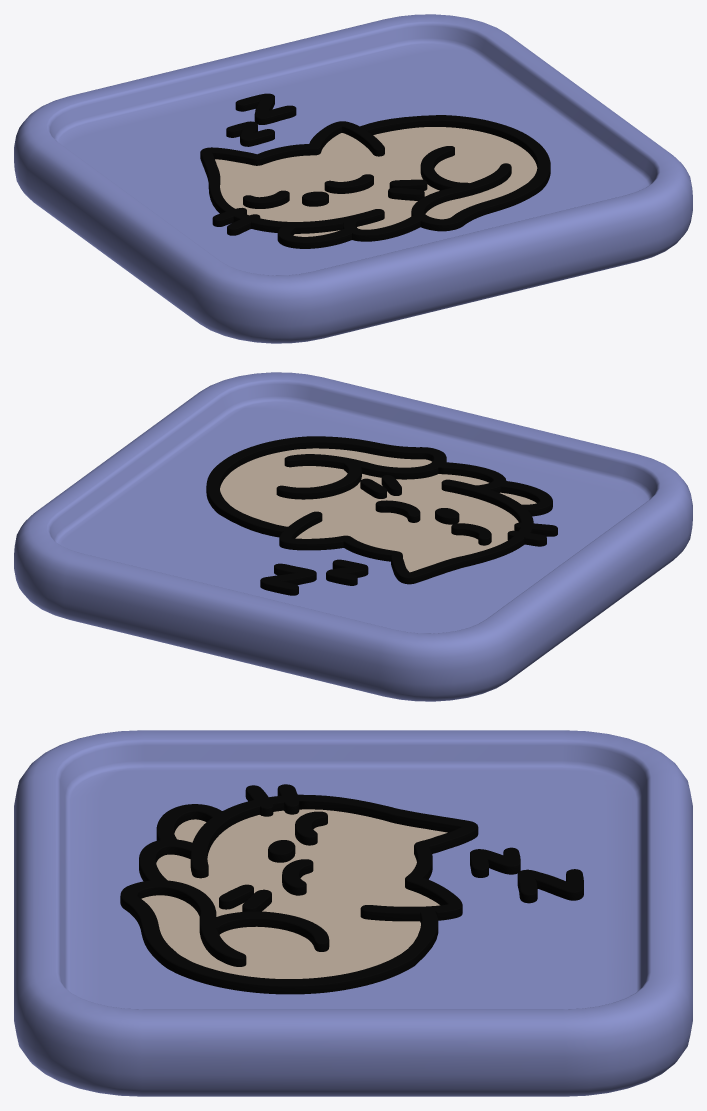
File: cat_tile.fbx
The picture shows the model from 3 angles, top to bottom: view 1: azimuth 30°, elevation 25°; view 2: azimuth 150°, elevation 25°; view 3: azimuth 270°, elevation 25°; orthographic projection. The views are drawn at different scales.
Visible parts, largest first — view 1: cat_cube, cat_lines; view 2: cat_cube, cat_lines; view 3: cat_cube, cat_lines.
Part boxes in pixels (box(x1,y1,x2,y2)): cat_cube: box(14, 14, 692, 343); cat_lines: box(200, 93, 550, 248); cat_cube: box(14, 372, 692, 701); cat_lines: box(206, 436, 557, 595); cat_cube: box(14, 730, 692, 1096); cat_lines: box(120, 784, 583, 994).
Bounding box in the file's own units: 1201 × 143 × 1128.
